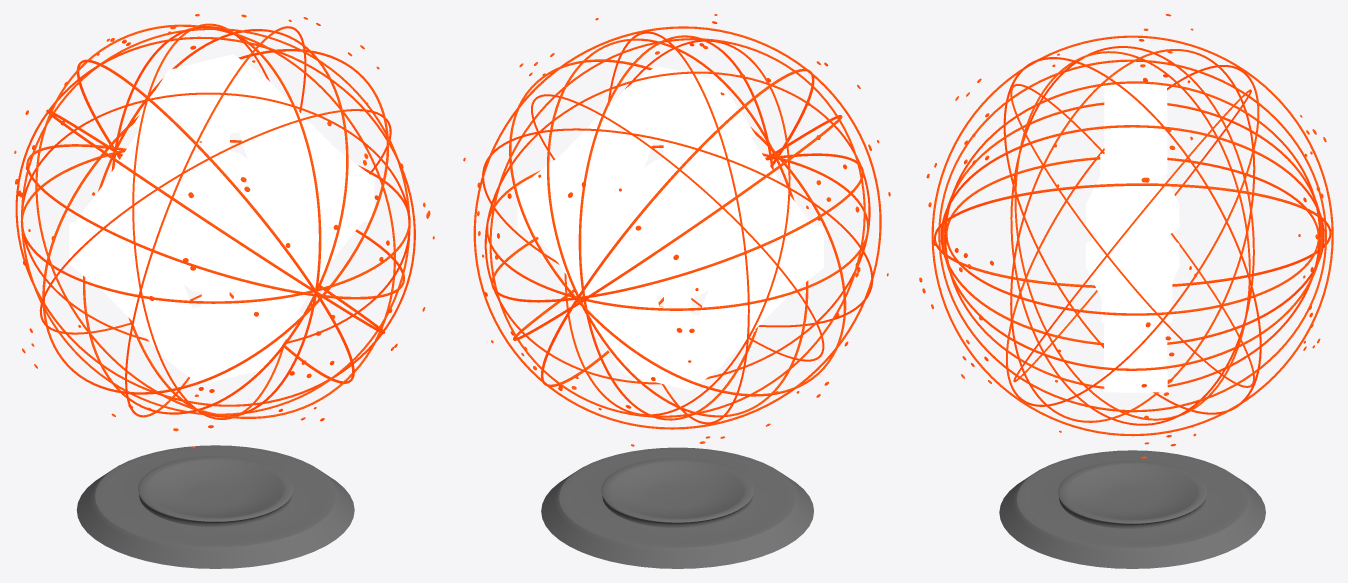
Rendered from Holo.glb.
3 renders of one model, left to right at view 1: azimuth 30°, elevation 25°; view 2: azimuth 150°, elevation 25°; view 3: azimuth 270°, elevation 25°, orthographic. The views are drawn at different scales.
Parts seen in each view (by area): view 1: o Cube_Cube.001, o 3d-Hologramm_Circle.024, o Torus.021_Torus.013, o Torus.000_Torus.013, o Torus.003_Torus.013, o Torus.002_Torus.013, o Torus.004_Torus.013, o Torus.022_Torus.013, o Torus.001_Torus.013; view 2: o Cube_Cube.001, o 3d-Hologramm_Circle.024, o Torus.002_Torus.013, o Torus.022_Torus.013, o Torus.021_Torus.013, o Torus.001_Torus.013, o Torus.004_Torus.013, o Torus.000_Torus.013, o Torus.003_Torus.013; view 3: o 3d-Hologramm_Circle.024, o Cube_Cube.001, o Torus.022_Torus.013, o Torus.003_Torus.013, o Torus.001_Torus.013, o Torus.004_Torus.013, o Torus.021_Torus.013, o Torus.002_Torus.013, o Torus.000_Torus.013.
Part boxes in pixels (left/top/right/bottom): o Cube_Cube.001: left=69, top=54, right=374, bottom=384; o 3d-Hologramm_Circle.024: left=76, top=445, right=354, bottom=568; o Torus.021_Torus.013: left=15, top=24, right=430, bottom=431; o Torus.000_Torus.013: left=20, top=14, right=410, bottom=420; o Torus.003_Torus.013: left=14, top=23, right=425, bottom=448; o Torus.002_Torus.013: left=31, top=17, right=434, bottom=416; o Torus.004_Torus.013: left=20, top=14, right=425, bottom=411; o Torus.022_Torus.013: left=17, top=26, right=429, bottom=421; o Torus.001_Torus.013: left=25, top=23, right=404, bottom=419; o Cube_Cube.001: left=517, top=66, right=823, bottom=390; o 3d-Hologramm_Circle.024: left=541, top=447, right=813, bottom=568; o Torus.002_Torus.013: left=484, top=21, right=865, bottom=426; o Torus.022_Torus.013: left=473, top=18, right=881, bottom=446; o Torus.021_Torus.013: left=463, top=59, right=879, bottom=443; o Torus.001_Torus.013: left=482, top=14, right=890, bottom=438; o Torus.004_Torus.013: left=477, top=39, right=871, bottom=415; o Torus.000_Torus.013: left=478, top=32, right=888, bottom=438; o Torus.003_Torus.013: left=477, top=31, right=856, bottom=424; o 3d-Hologramm_Circle.024: left=999, top=450, right=1265, bottom=568; o Cube_Cube.001: left=1085, top=82, right=1179, bottom=392; o Torus.022_Torus.013: left=919, top=14, right=1333, bottom=458; o Torus.003_Torus.013: left=926, top=28, right=1326, bottom=437; o Torus.001_Torus.013: left=931, top=46, right=1322, bottom=427; o Torus.004_Torus.013: left=934, top=50, right=1319, bottom=432; o Torus.021_Torus.013: left=922, top=64, right=1331, bottom=446; o Torus.002_Torus.013: left=928, top=28, right=1324, bottom=387; o Torus.000_Torus.013: left=933, top=64, right=1320, bottom=444.
Size of what is drawn, in the model's own units: 26.73 by 32.23 by 25.91.
